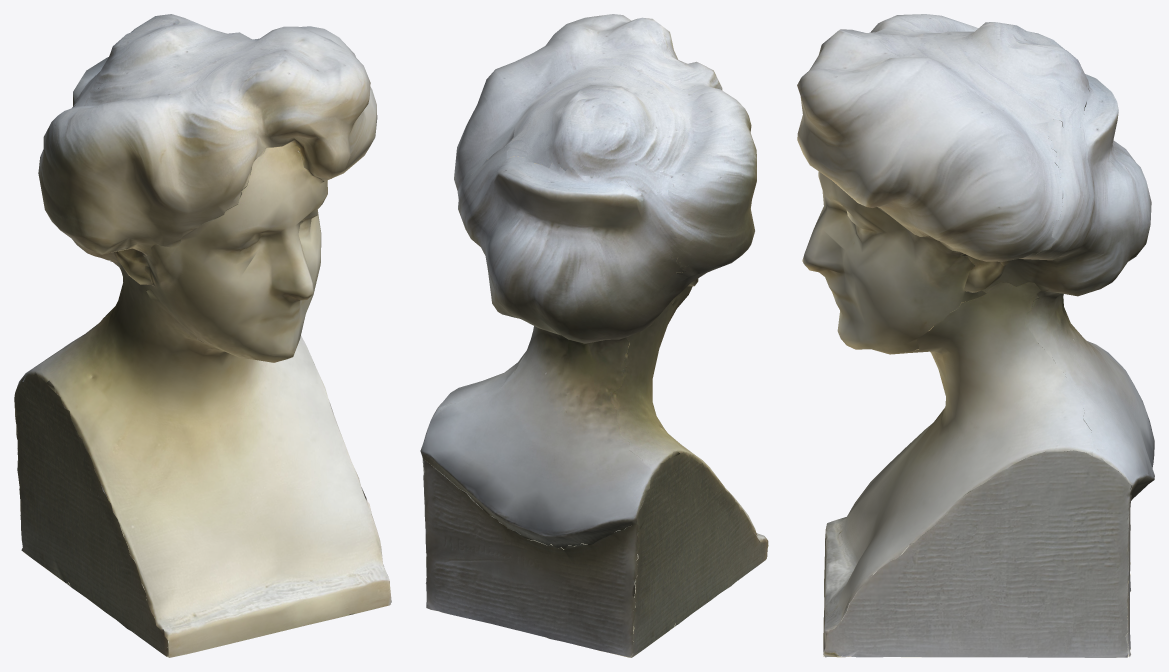
Rendered from bust_lady.glb.
3 views of the same model, side by side, from view 1: azimuth 30°, elevation 25°; view 2: azimuth 150°, elevation 25°; view 3: azimuth 270°, elevation 25° (orthographic). The views are drawn at different scales.
Parts seen in each view (by area): view 1: Object_3; view 2: Object_3; view 3: Object_3.
Part boxes in pixels (left/top/right/bottom): Object_3: left=14, top=14, right=391, bottom=657; Object_3: left=420, top=14, right=768, bottom=657; Object_3: left=797, top=14, right=1154, bottom=657.
Size of the model in its own units: 0.3645 by 0.6665 by 0.3744.
Materials: 1 (1 with a texture image).
